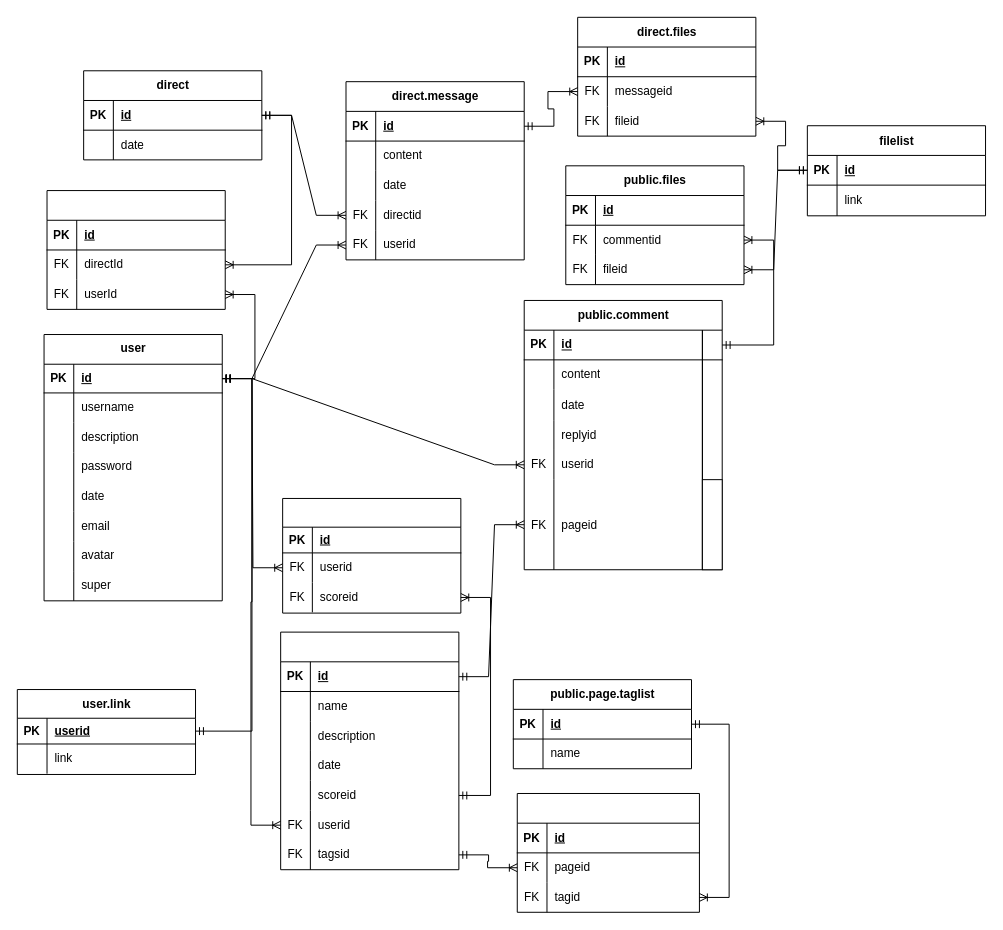
The diagram is 1003 pixels wide and 930 high, and some of its shapes have lost their labels. The box of each missing label's shape, as (x1, y1, x2, y2) in pixels:
directs: (46, 190, 225, 309)
public.page: (280, 631, 459, 870)
public.page.tags: (516, 792, 699, 912)
public.score: (282, 497, 461, 613)
